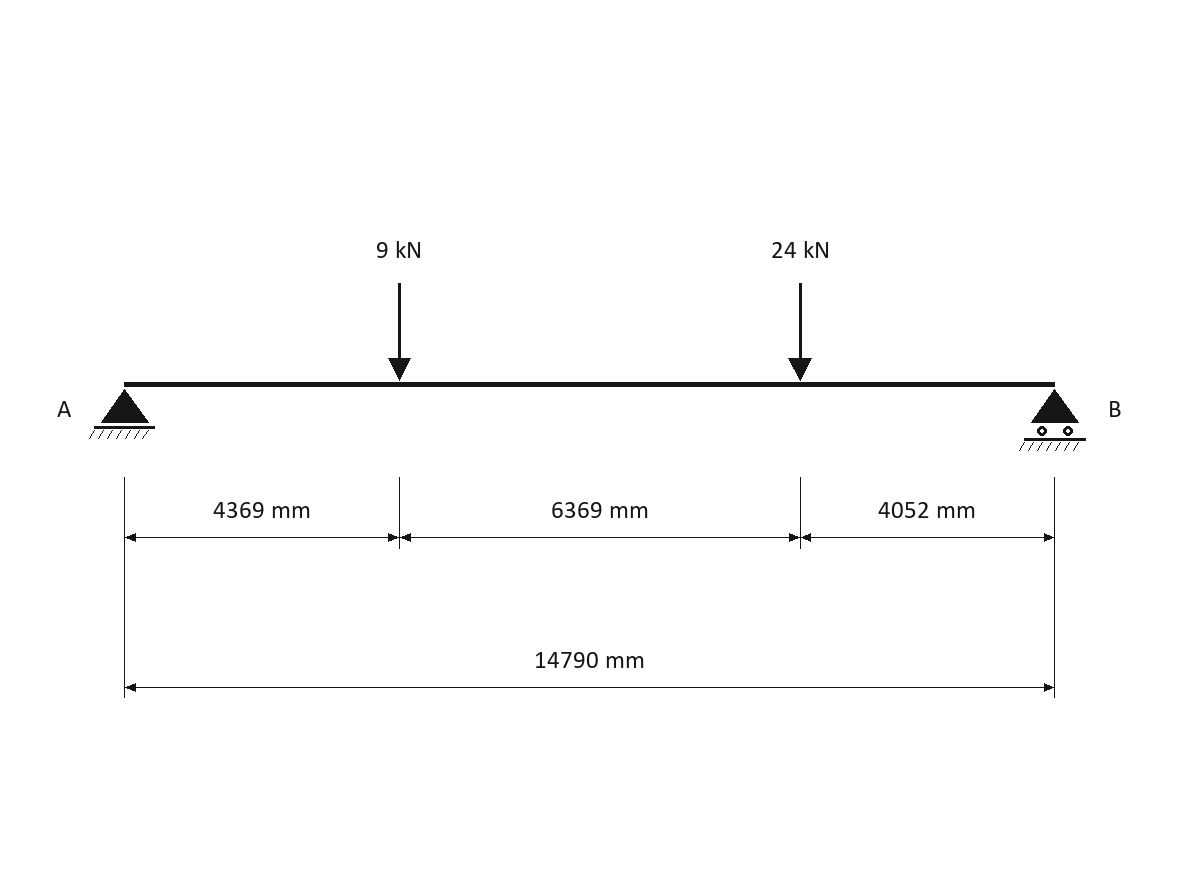pin_support: (89, 389, 155, 439)
point_load: (788, 283, 812, 381), (388, 283, 411, 381)
roller_support: (1019, 389, 1086, 451)
